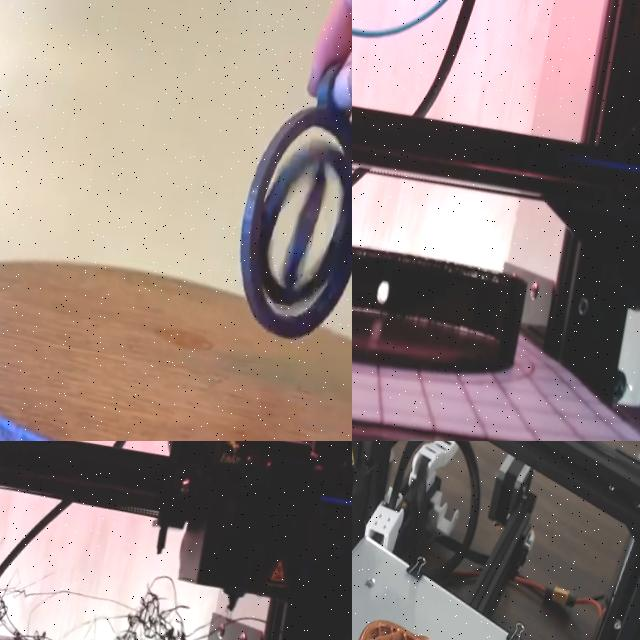spaghetti: (0, 488, 226, 640)
